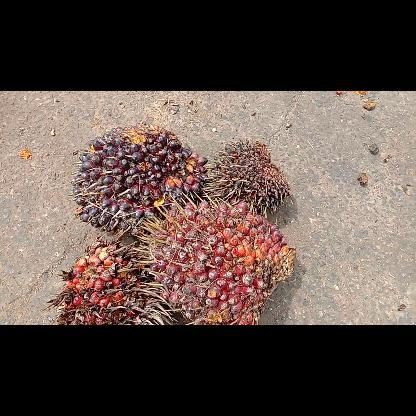Kurang masak: (68, 123, 207, 235)
TBS abnormal: (203, 138, 295, 218)
TBS masak: (134, 200, 298, 324)
Terlalu masak: (49, 236, 180, 324)
